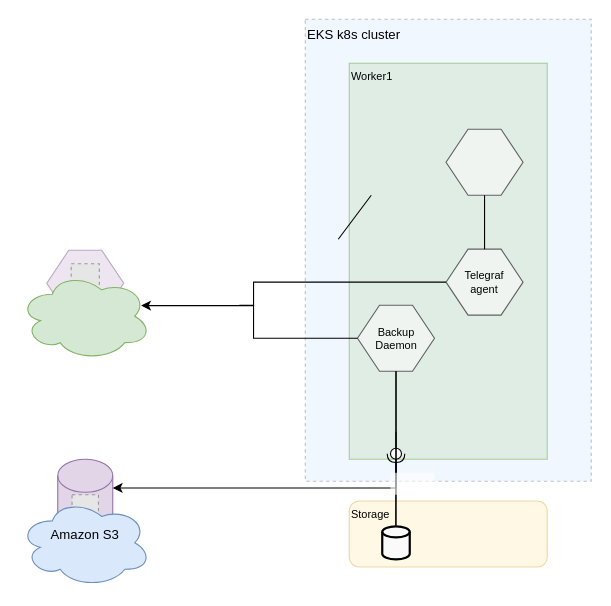
The diagram is 611 pixels wide and 606 high, and some of its shapes have lost their labels. Grey dashed boxes stand in for pictures. Each missing label, with the centre of its shape:
Amazon MQ: [84,315]
OR: [412,483]
RabbitMQ Operator: [484,161]
